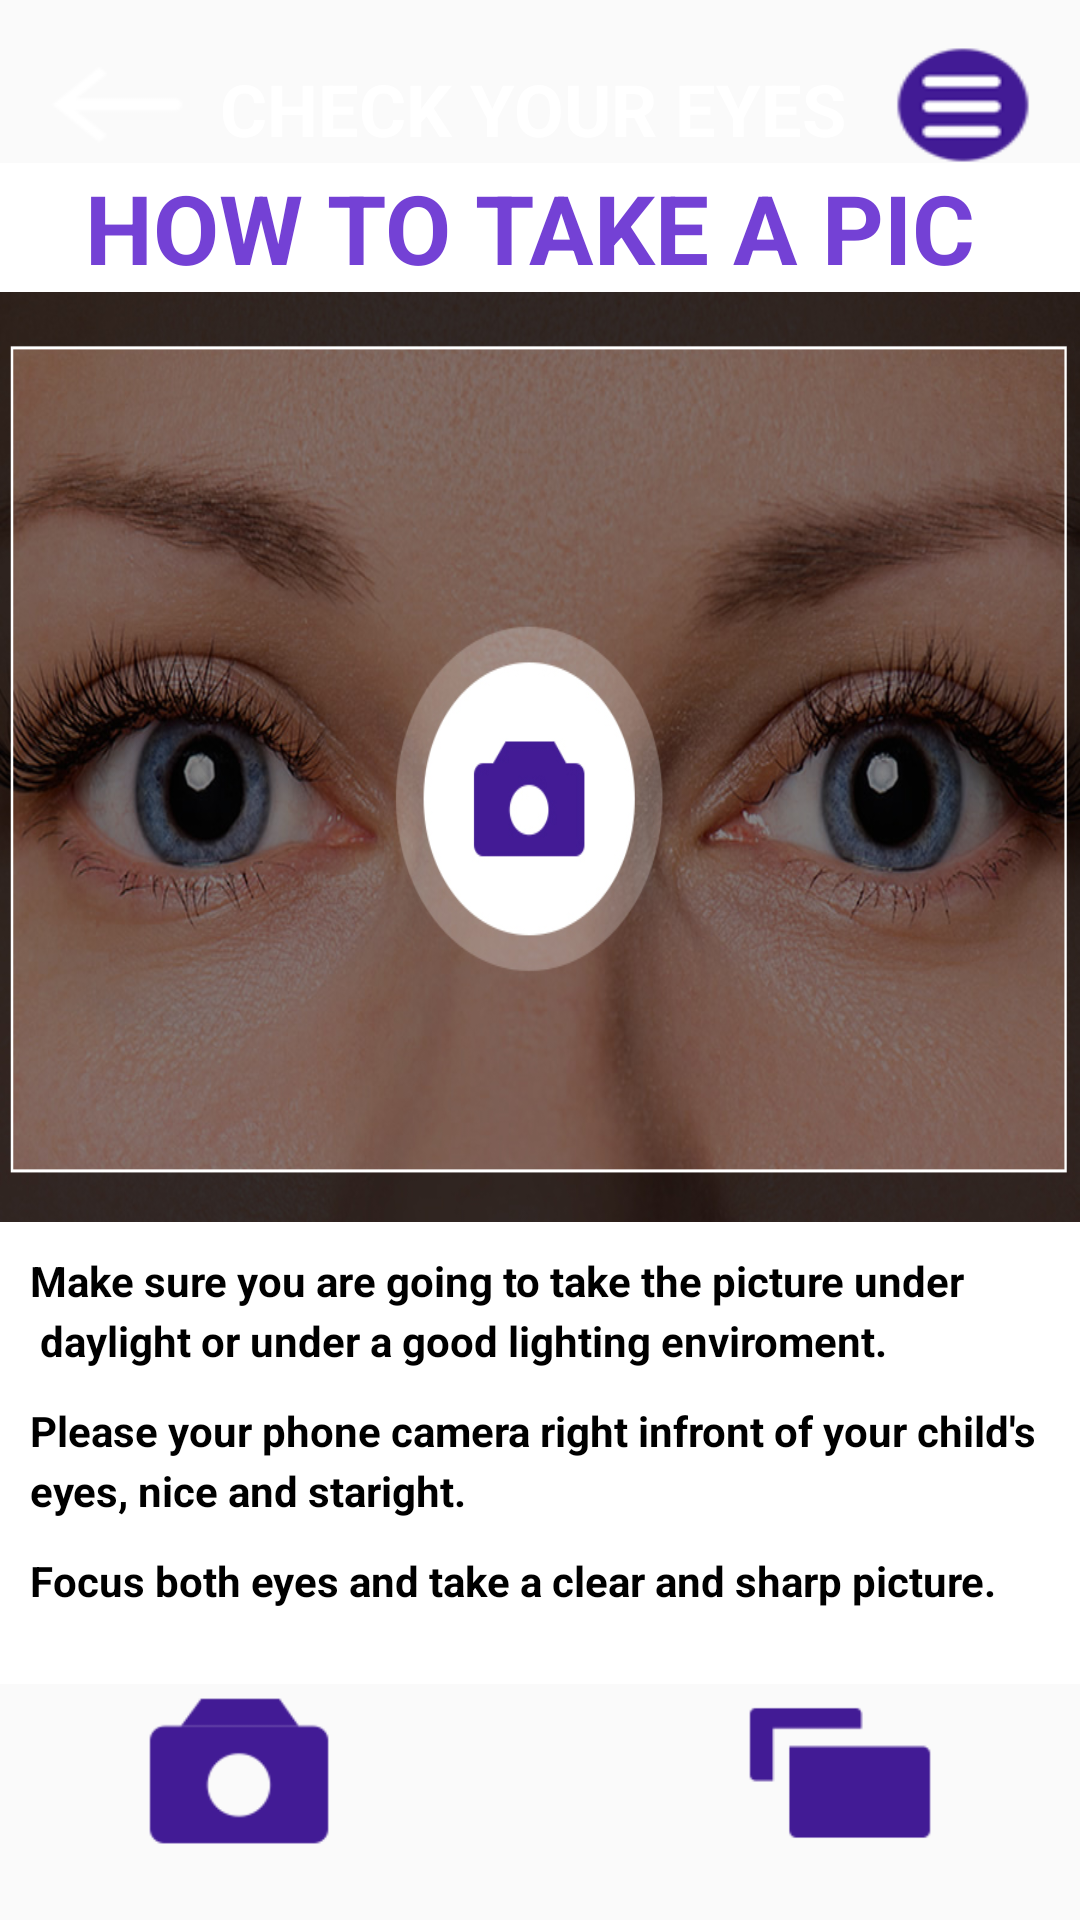

Screen size 1080 x 1920. Icon name, then its center in pixels as point (x, y):
camera: point (239, 1771)
gallery: point (840, 1773)
menu: point (963, 105)
